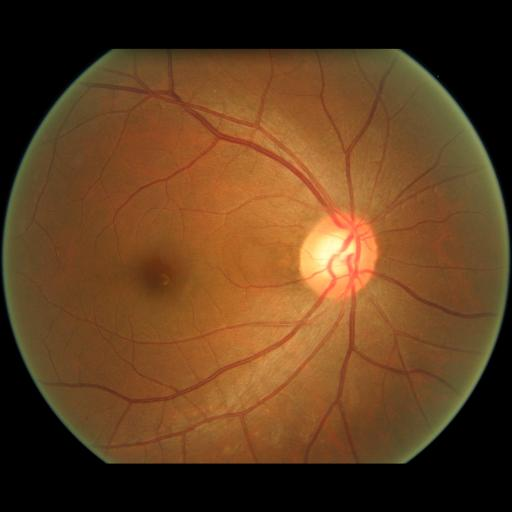Optic Cup: (315, 230, 362, 280)
Optic Disc: (299, 212, 378, 299)
